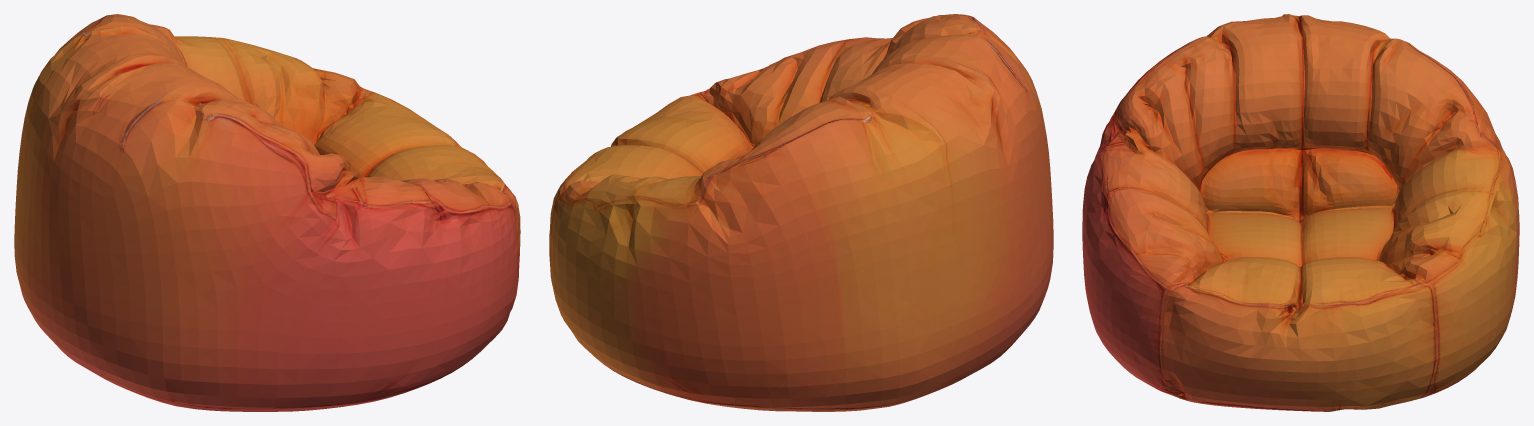
The model's file is beam.glb.
3 views of the same model, side by side, from view 1: azimuth 30°, elevation 25°; view 2: azimuth 150°, elevation 25°; view 3: azimuth 270°, elevation 25° (orthographic). The views are drawn at different scales.
Visible parts, largest first — view 1: tripo_node_8699f95c-ac39-42e8-83a2-e0b3f384ec4e; view 2: tripo_node_8699f95c-ac39-42e8-83a2-e0b3f384ec4e; view 3: tripo_node_8699f95c-ac39-42e8-83a2-e0b3f384ec4e.
Part boxes in pixels (<box>): tripo_node_8699f95c-ac39-42e8-83a2-e0b3f384ec4e: <box>14,14,520,411</box>; tripo_node_8699f95c-ac39-42e8-83a2-e0b3f384ec4e: <box>549,14,1053,411</box>; tripo_node_8699f95c-ac39-42e8-83a2-e0b3f384ec4e: <box>1082,14,1519,411</box>.
Size of the model in its own units: 0.9988 by 0.6965 by 0.9996.
Materials: 1 (1 with a texture image).
